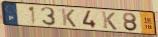1: (28, 5, 37, 27)
3: (40, 6, 57, 27)
4: (82, 10, 98, 30)
8: (122, 12, 139, 32)
K: (61, 8, 78, 29), (101, 11, 118, 31)
